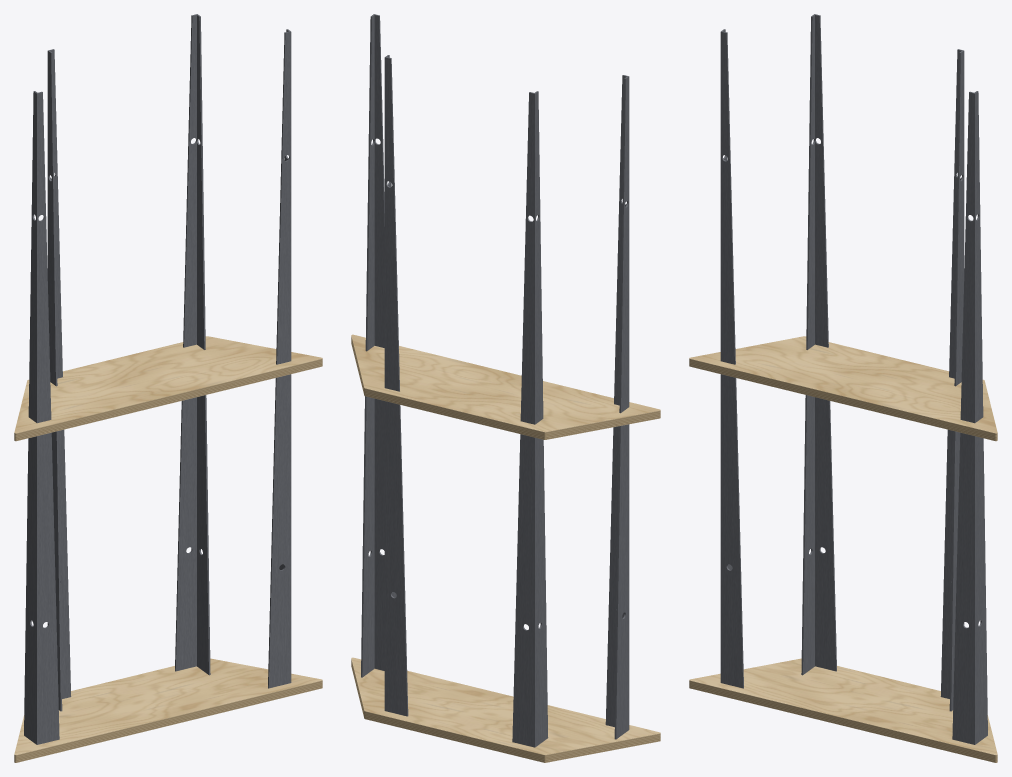
File: mies-media.glb
3 renders of one model, left to right at view 1: azimuth 30°, elevation 25°; view 2: azimuth 150°, elevation 25°; view 3: azimuth 330°, elevation 25°, orthographic.
Visible parts, largest first — view 1: mies; view 2: mies; view 3: mies.
Part boxes in pixels (x1,y1,x2,y2): mies: [14, 14, 322, 762]; mies: [351, 14, 660, 762]; mies: [689, 14, 997, 762].
Bounding box in the file's own units: 1.03 × 2.1 × 0.3.
Materials: 3 (3 with a texture image).
